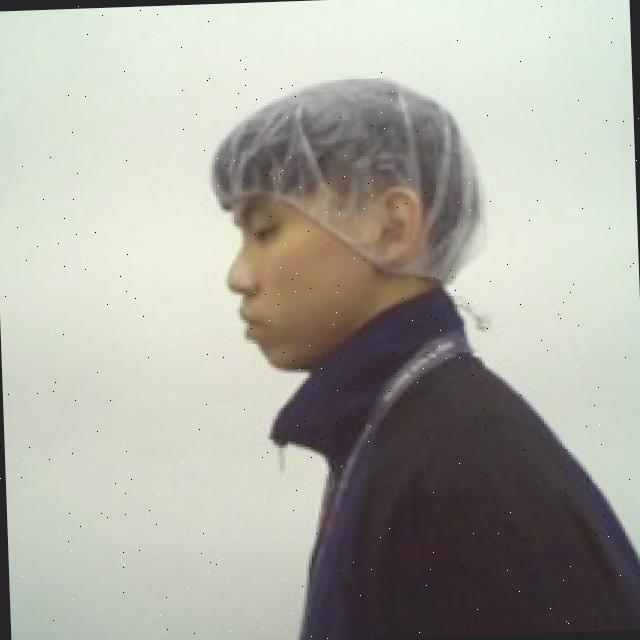gloves: (203, 69, 492, 294)
no_hairnet: (216, 178, 438, 382)
